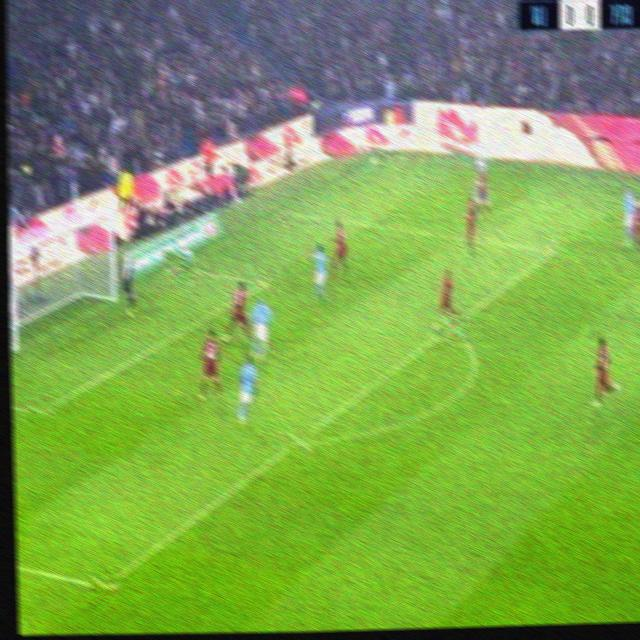bigarea_bottom_inner: (89, 565, 120, 605)
bigarea_top_inner: (536, 231, 569, 270)
bigarea_top_outter: (274, 199, 295, 224)
bottom_arc_area_intersection: (284, 424, 311, 458)
corner: (381, 148, 402, 164)
smallarea_bottom_inner: (25, 393, 54, 428)
smallarea_top_inner: (255, 267, 277, 296)
smallarea_top_outter: (162, 249, 193, 284), (166, 254, 190, 279)
top_arc_area_intersection: (437, 312, 465, 342)
